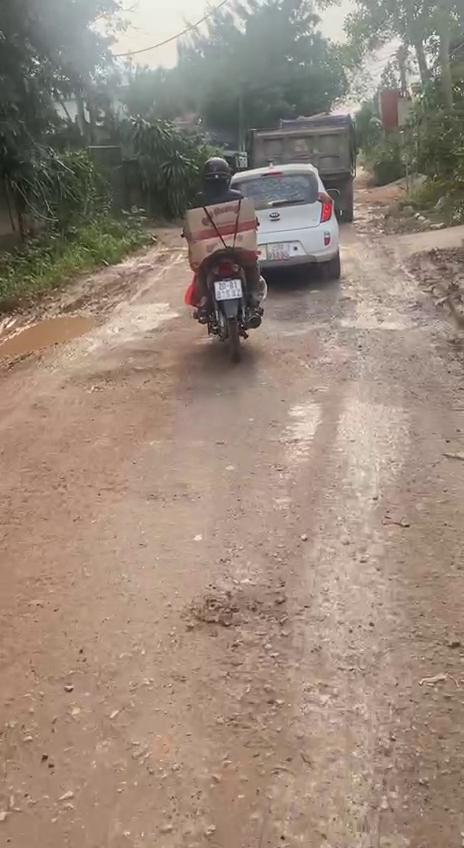pothole: (0, 306, 107, 384)
